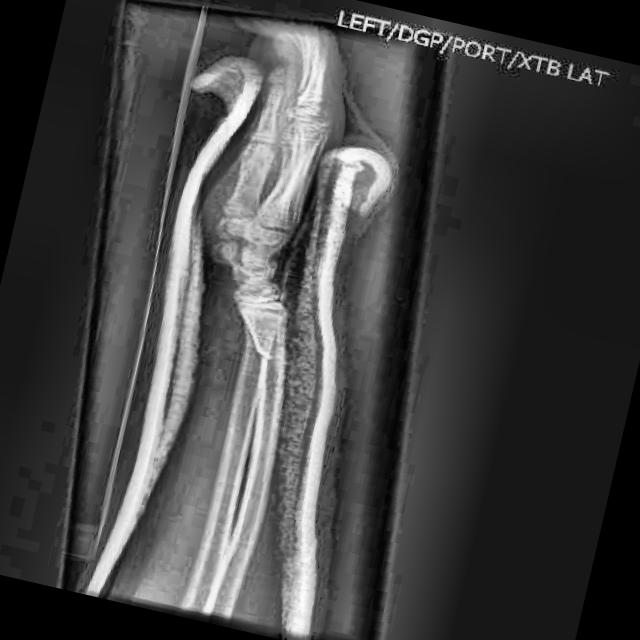forearm fracture: (241, 321, 306, 391)
